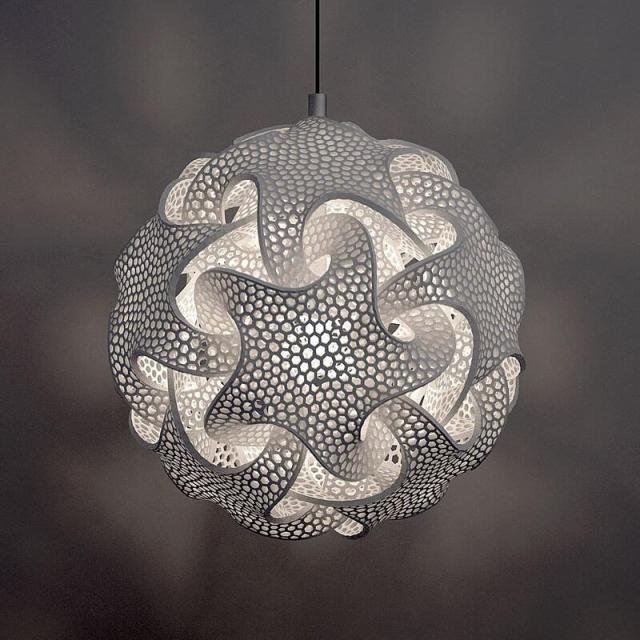Without deffect: (82, 114, 564, 564)
